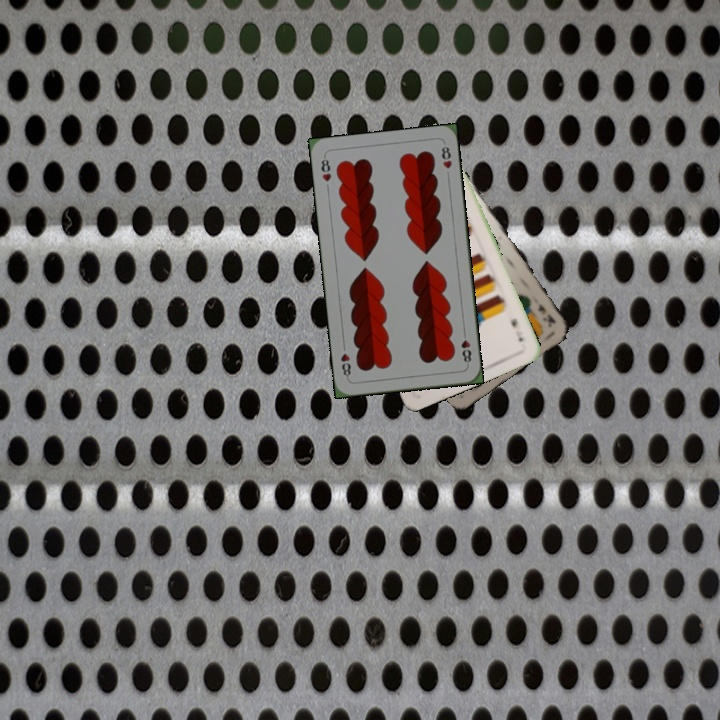E7: (507, 314, 526, 344)
EK: (534, 300, 558, 328)
H8: (457, 327, 474, 368), (317, 152, 334, 184)
